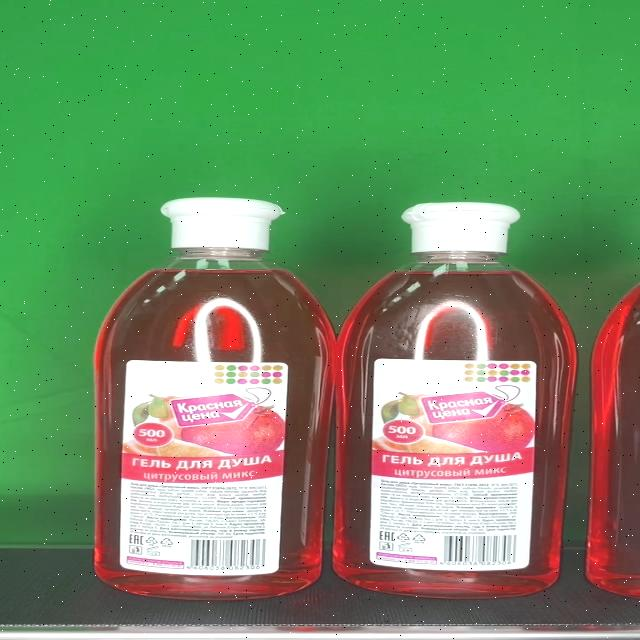Bottle: (93, 198, 334, 600), (338, 202, 576, 600)
Cap: (400, 202, 520, 253), (160, 198, 282, 248)
